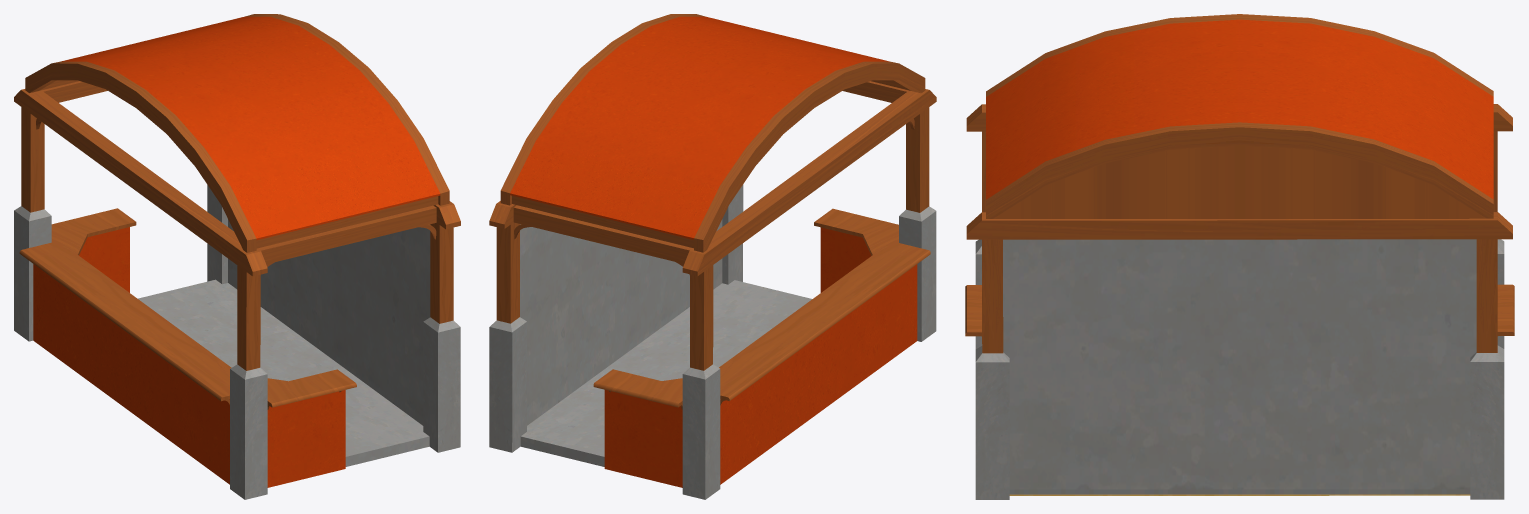
The model's file is refreshment stand.glb.
3 renders of one model, left to right at view 1: azimuth 30°, elevation 25°; view 2: azimuth 150°, elevation 25°; view 3: azimuth 270°, elevation 25°, orthographic. The views are drawn at different scales.
Visible parts, largest first — view 1: Refreshment_Stand; view 2: Refreshment_Stand; view 3: Refreshment_Stand.
Part boxes in pixels (box(x1,y1,x2,y2)): Refreshment_Stand: box(14, 14, 460, 499); Refreshment_Stand: box(489, 14, 936, 499); Refreshment_Stand: box(965, 14, 1514, 499).
Size of the model in its own units: 2.3 by 3.15 by 4.25.
Materials: 1 (1 with a texture image).
